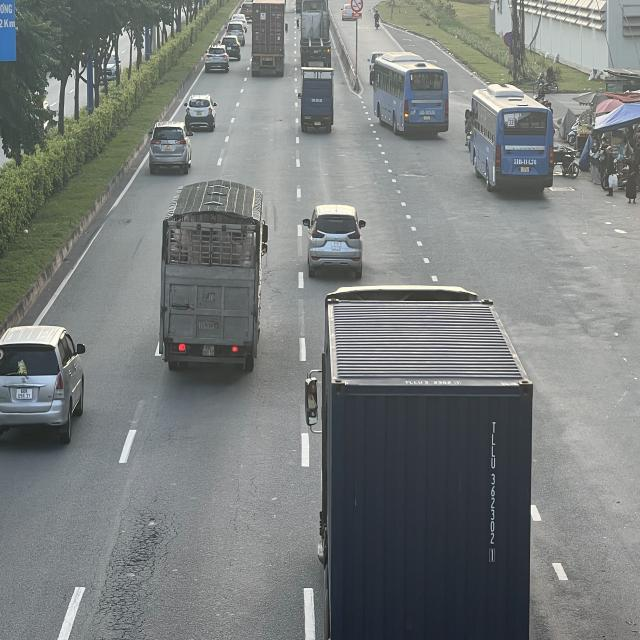car: (0, 322, 86, 441), (304, 203, 368, 276), (151, 120, 197, 172), (184, 95, 217, 132), (205, 44, 231, 72)
coach: (464, 87, 553, 195), (368, 52, 451, 134)
container: (306, 276, 533, 638), (251, 1, 288, 79), (299, 0, 334, 62)
truck: (158, 179, 268, 374), (302, 64, 338, 130)
